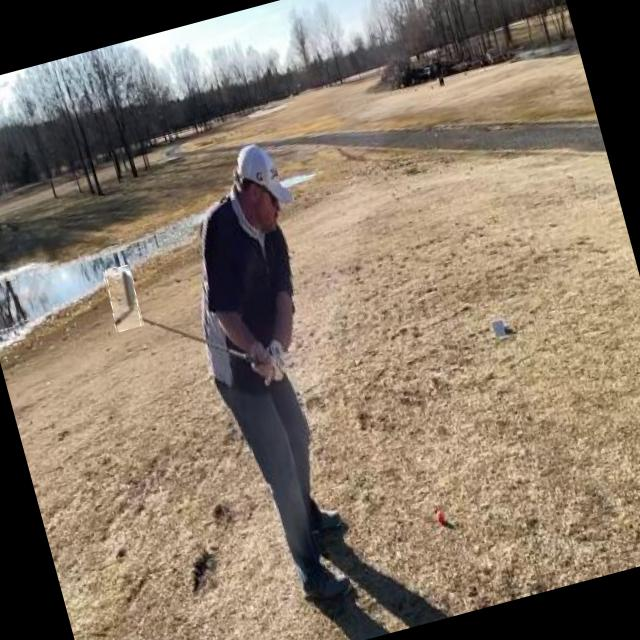club head: (102, 264, 144, 332)
